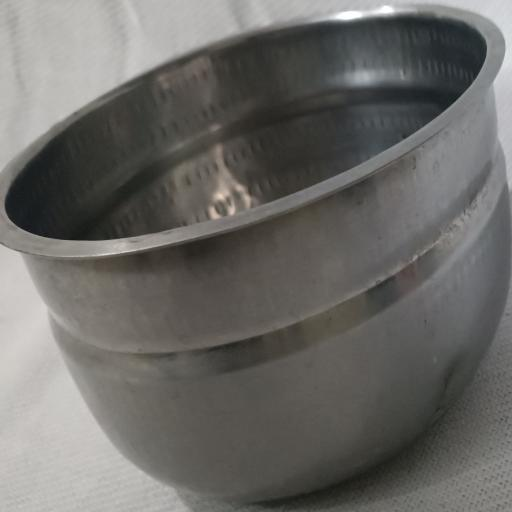vessel: (0, 6, 510, 500)
